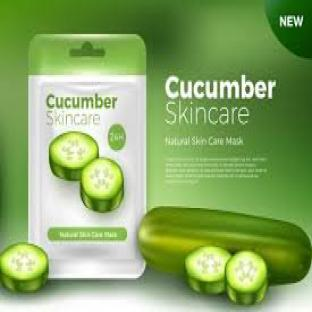Cucumber: (139, 207, 310, 284), (49, 132, 98, 180), (81, 159, 123, 213), (0, 244, 48, 291), (226, 251, 267, 305), (185, 246, 231, 293)
